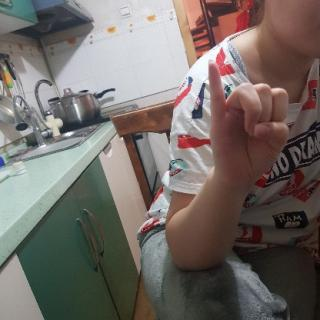MEEM: (204, 55, 292, 183)
